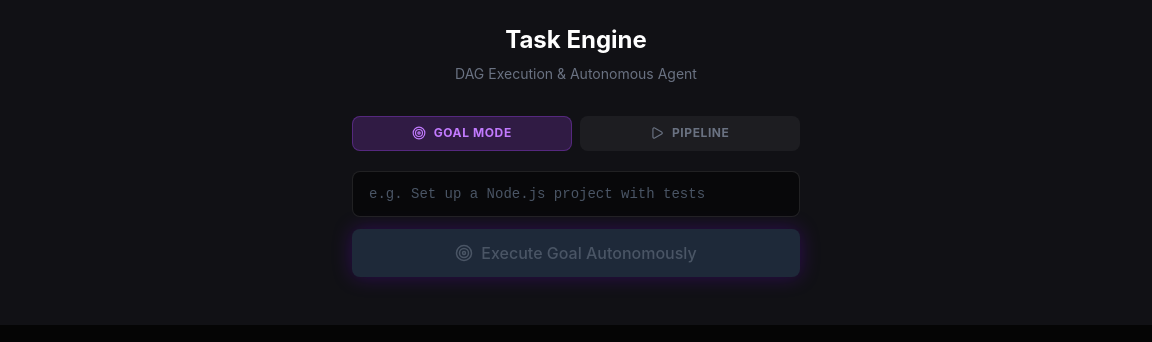
Test: TaskRunnerApp › enables execute button when goal is typed
This screenshot has width=1152, height=342.
Type "Build a REST API" into the field with placeholder "e.g. Set up a Node.js project with tests" at (576, 194), box [352,171,800,217]
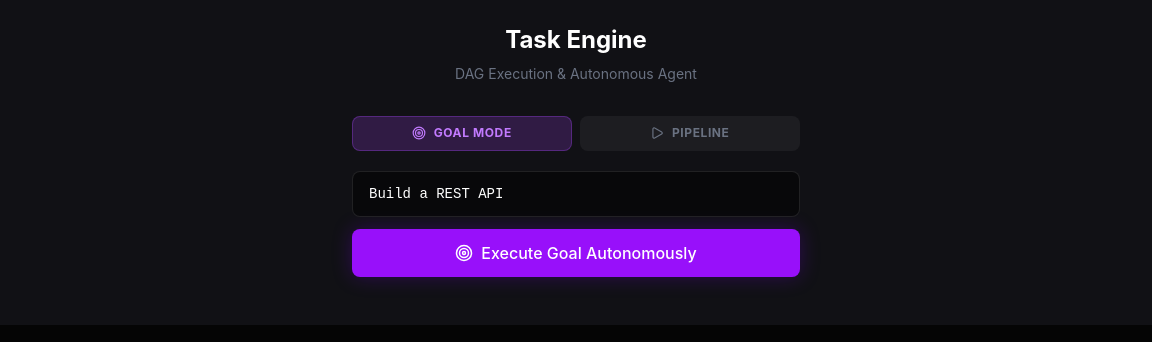
Expected: the button "Execute Goal Autonomously" is enabled, [352,229,800,277]
